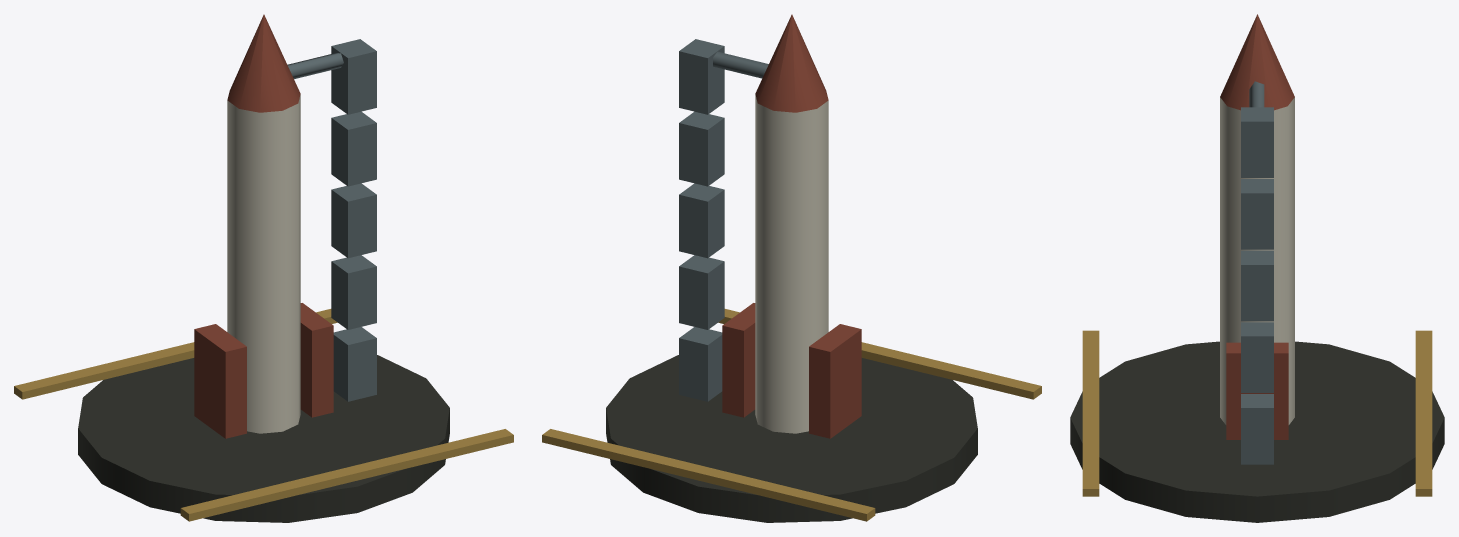
File: custom-cb-spaceport.glb
3 views of the same model, side by side, from view 1: azimuth 30°, elevation 25°; view 2: azimuth 150°, elevation 25°; view 3: azimuth 270°, elevation 25° (orthographic).
Visible parts, largest first — view 1: custom-cb-spaceport; view 2: custom-cb-spaceport; view 3: custom-cb-spaceport.
Part boxes in pixels (bbox=[...]): custom-cb-spaceport: bbox=[14, 14, 513, 522]; custom-cb-spaceport: bbox=[542, 14, 1041, 522]; custom-cb-spaceport: bbox=[1070, 14, 1444, 522].
Size of the model in its own units: 1 by 1.27 by 1.
